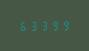nine: (48, 19, 57, 30), (58, 19, 67, 30)
six: (18, 20, 27, 31)
three: (28, 20, 37, 31), (38, 20, 47, 30)
